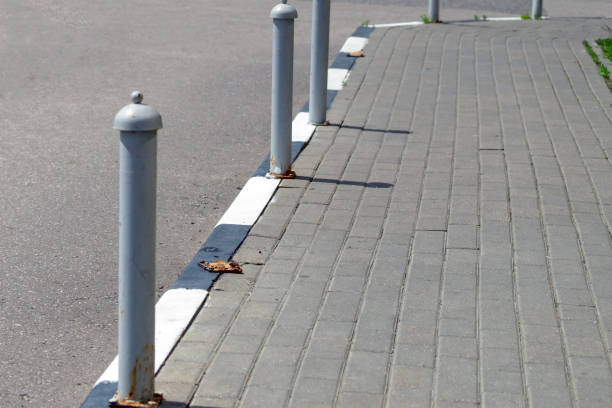bollard: (98, 87, 180, 408), (262, 3, 305, 184)
